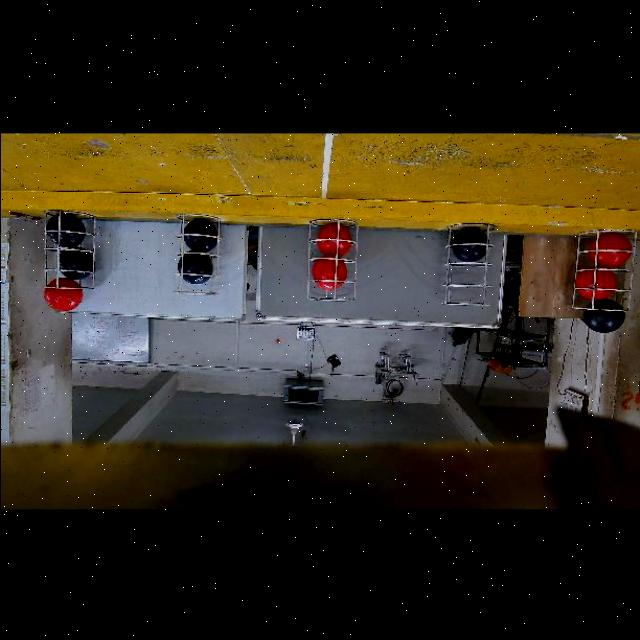P: (581, 299, 625, 333), (45, 212, 85, 248), (452, 227, 493, 261), (183, 218, 217, 252), (178, 254, 213, 285), (59, 250, 93, 281)
R: (588, 233, 631, 268), (43, 277, 82, 311), (575, 270, 617, 301), (316, 223, 350, 256), (311, 259, 346, 290)
S: (304, 208, 358, 308), (44, 208, 100, 296), (444, 216, 494, 306), (170, 210, 220, 298), (570, 233, 624, 313)
